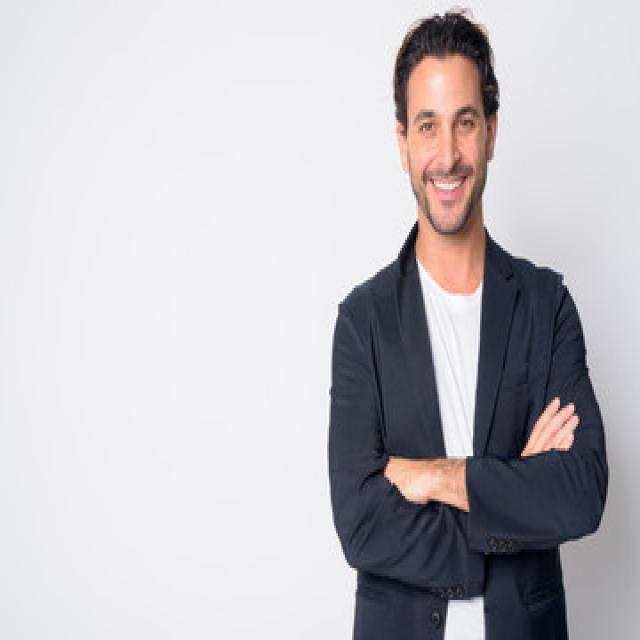person-without-mask: (316, 6, 634, 640)
